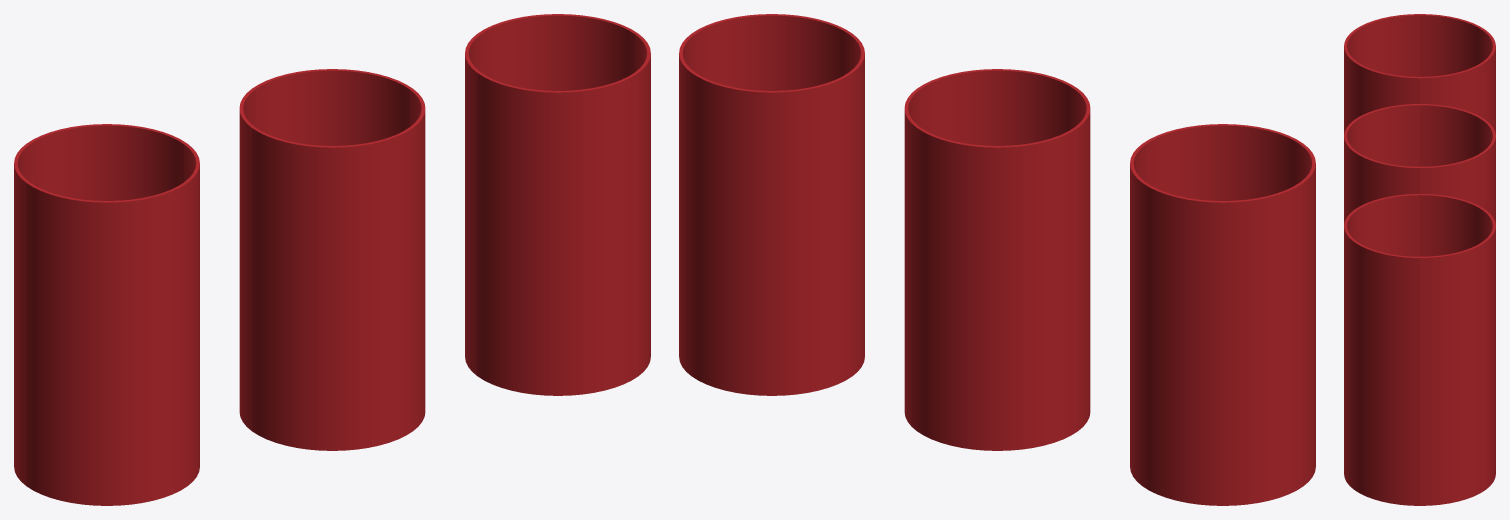
Rendered from digestion_autoclave_pressure.glb.
3 views of the same model, side by side, from view 1: azimuth 30°, elevation 25°; view 2: azimuth 150°, elevation 25°; view 3: azimuth 270°, elevation 25° (orthographic). The views are drawn at different scales.
Visible parts, largest first — view 1: pressure__front, pressure__back; view 2: pressure__back, pressure__front; view 3: pressure__back, pressure__front.
Boxes of the visible parts, x1,y1,x2,y2 form: pressure__front: (26,33,650,505); pressure__back: (14,14,637,485); pressure__back: (679,33,1303,505); pressure__front: (692,14,1315,485); pressure__back: (1420,14,1495,505); pressure__front: (1344,14,1419,505).
Size of the model in its own units: 3.8 by 1.8 by 1.
